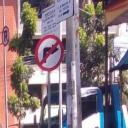NoVirarDireita: (34, 35, 64, 71)
